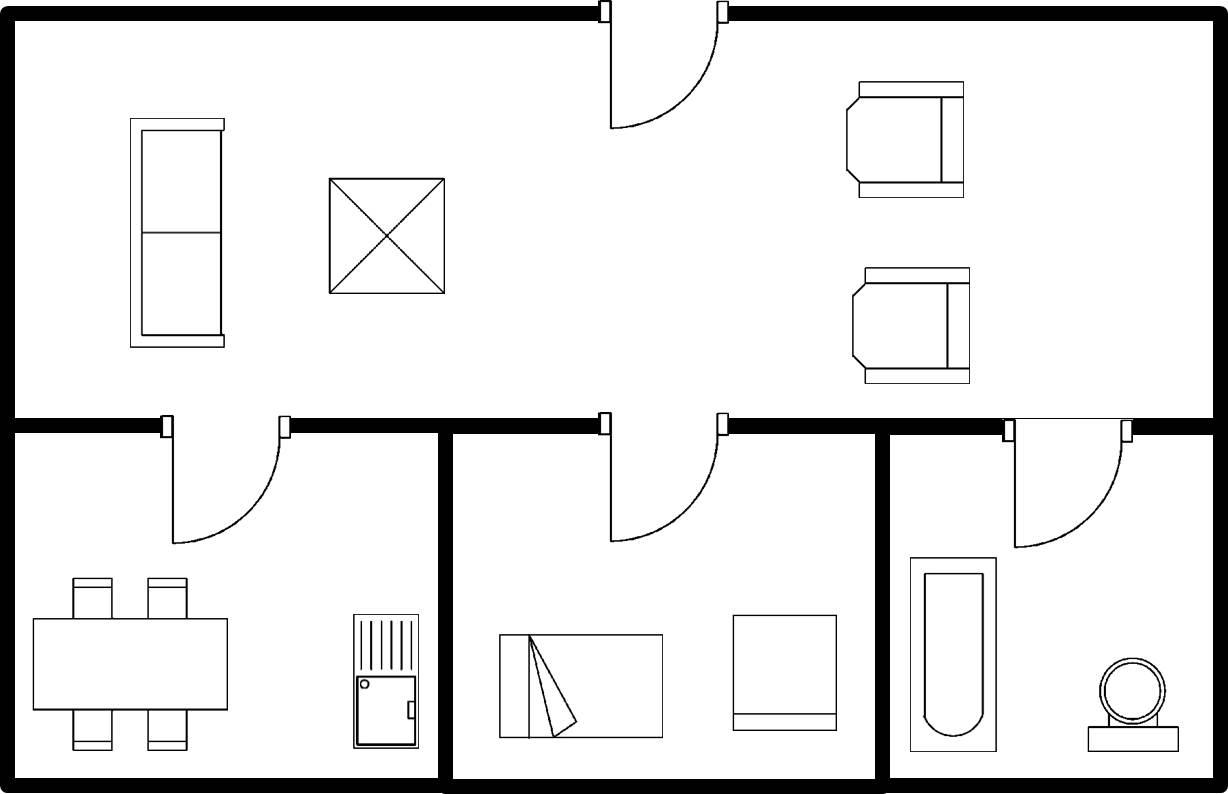bed: (488, 626, 670, 746)
dining_table: (28, 569, 234, 758)
sink: (343, 605, 424, 758)
sofa: (123, 110, 233, 356)
toilet: (1081, 648, 1186, 759)
tub: (901, 546, 1002, 759)
